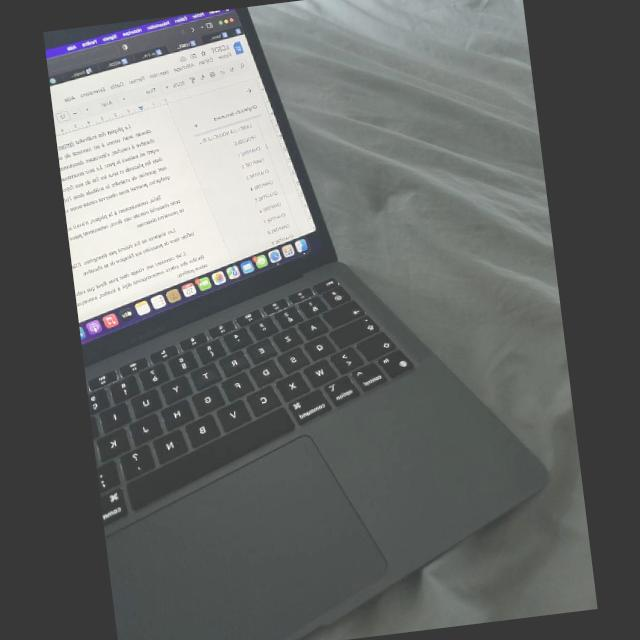laptop: (43, 7, 545, 640)
